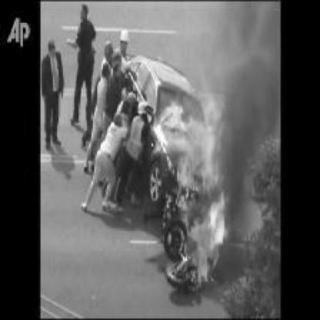Smoke: (216, 2, 278, 150)
